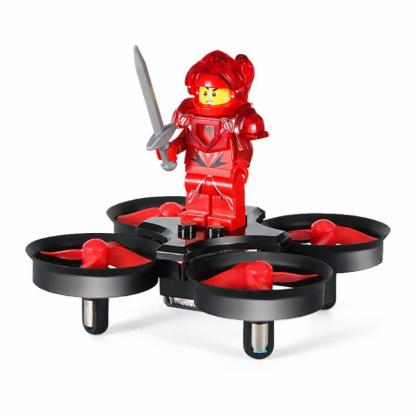drone: (21, 180, 402, 325)
